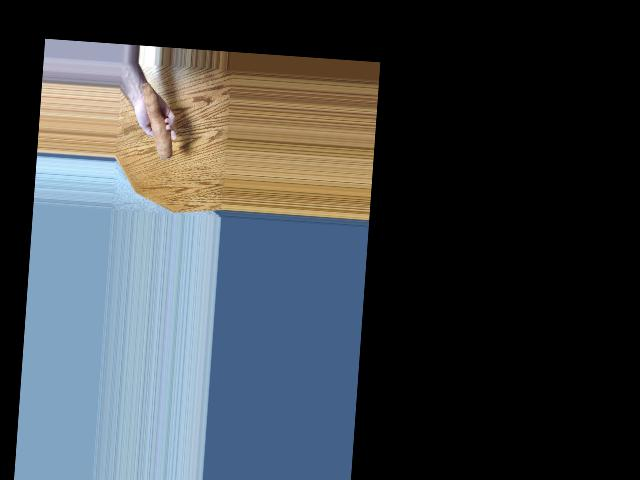sweet_potato: (134, 81, 178, 160)
